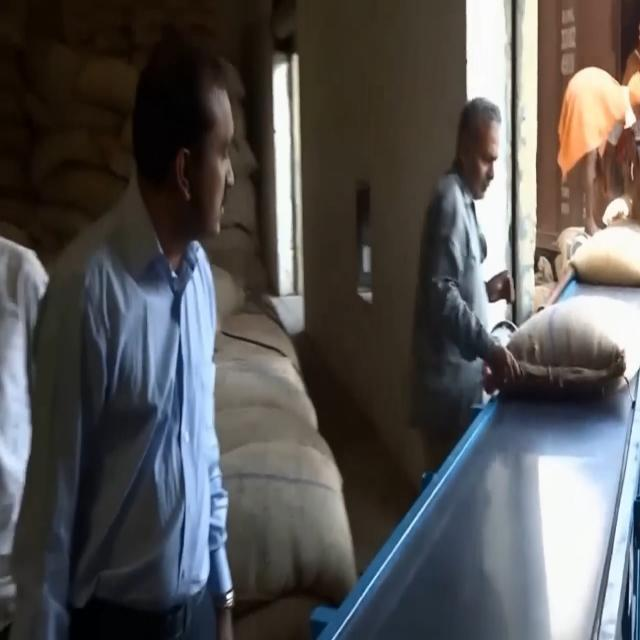gunny_bag: (485, 295, 640, 393), (572, 228, 640, 283)
